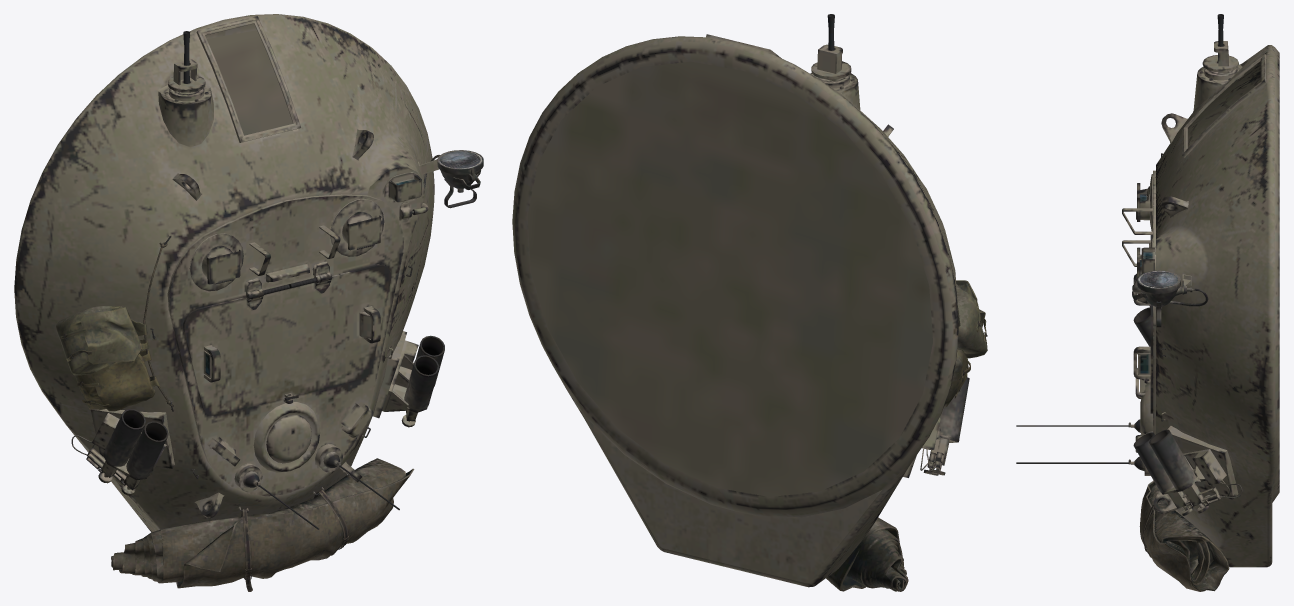
Rendered from Turret_01.glb.
3 views of the same model, side by side, from view 1: azimuth 30°, elevation 25°; view 2: azimuth 150°, elevation 25°; view 3: azimuth 270°, elevation 25° (orthographic). The views are drawn at different scales.
Parts seen in each view (by area): view 1: set_0_group_0; view 2: set_0_group_0; view 3: set_0_group_0.
Part boxes in pixels (x1,y1,x2,y2): set_0_group_0: (14, 14, 483, 591); set_0_group_0: (512, 14, 987, 591); set_0_group_0: (1016, 14, 1279, 591).
Size of the model in its own units: 2.03 by 2.53 by 1.17.
1 material, 1 textured.
